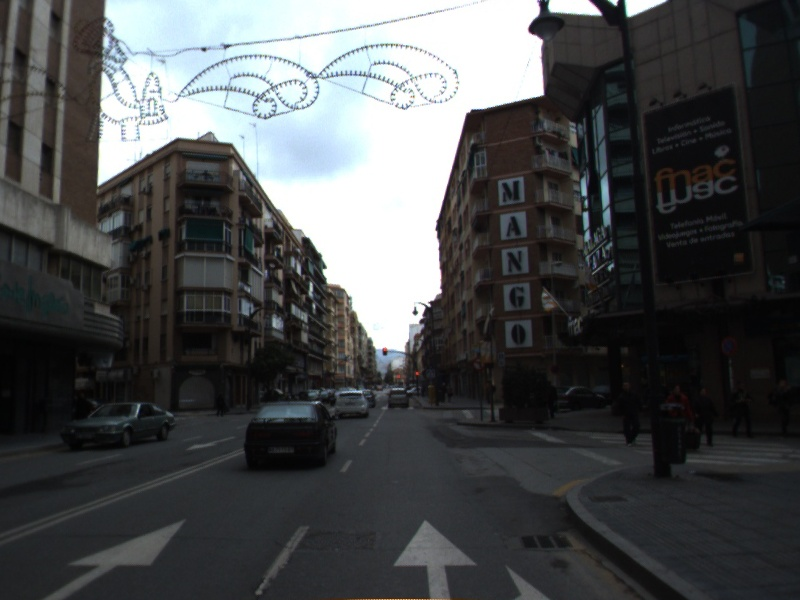STRAIGHT: (35, 517, 188, 600), (391, 518, 479, 600)
